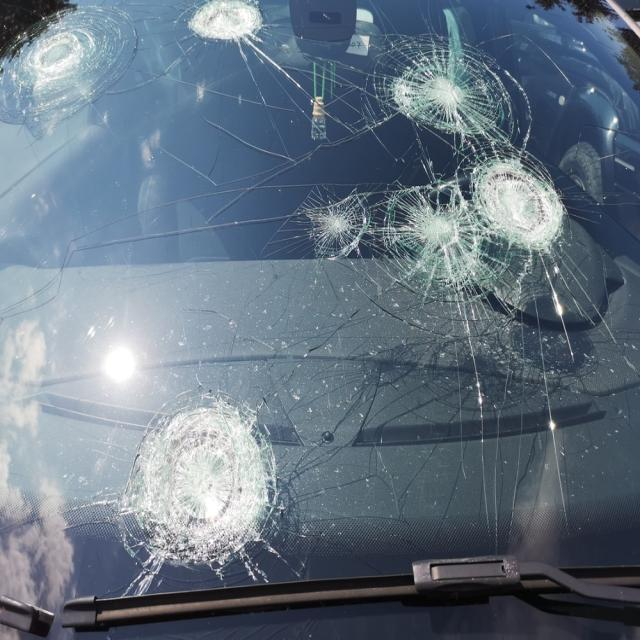crack: (0, 0, 640, 592)
